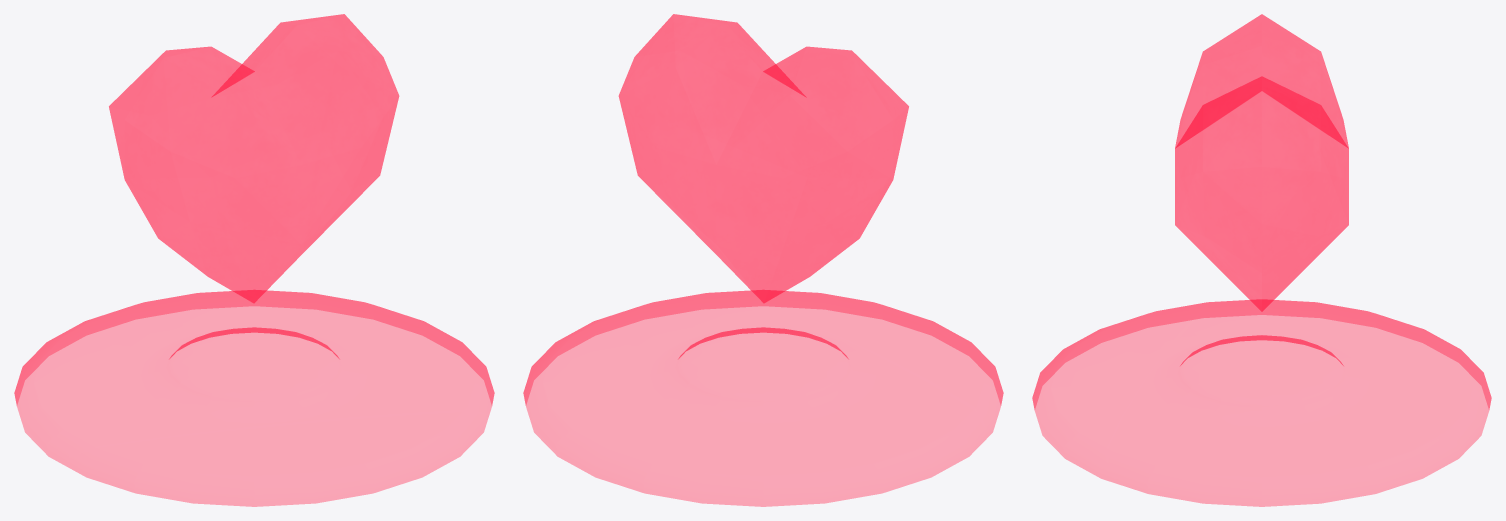
File: KISSOFLIFE_LICHT.glb
The picture shows the model from 3 angles, left to right: view 1: azimuth 30°, elevation 25°; view 2: azimuth 150°, elevation 25°; view 3: azimuth 270°, elevation 25°; orthographic projection. The views are drawn at different scales.
Size of the model in its own units: 0.1436 by 0.1223 by 0.1436.
Materials: 1 (1 with a texture image).
